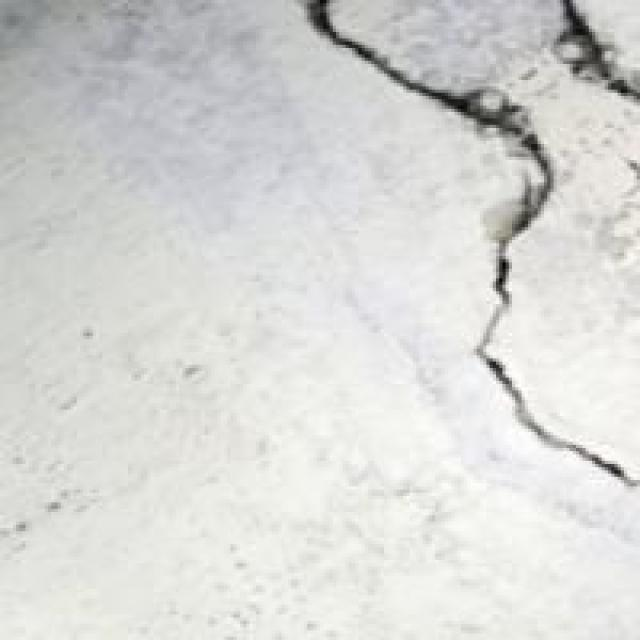crack: (285, 0, 637, 493)
